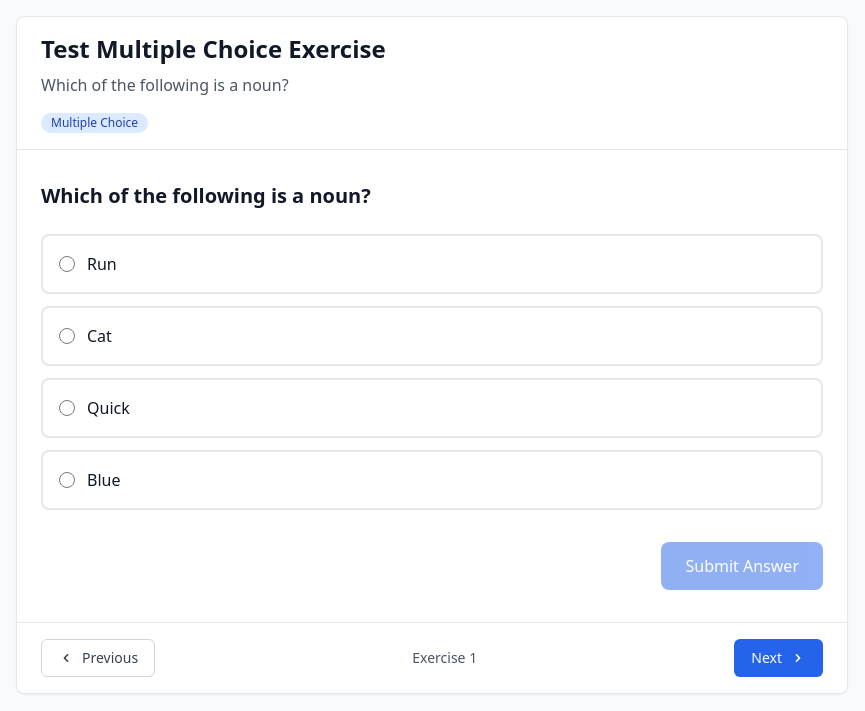
Test: ExercisePage › handles submission errors gracefully
Expected: the heading "Test Multiple Choice Exercise" is shown, [41, 33, 386, 65]
// Select an option
Click the radio button labelled "Cat".
click(67, 336)  # box [59, 328, 75, 344]
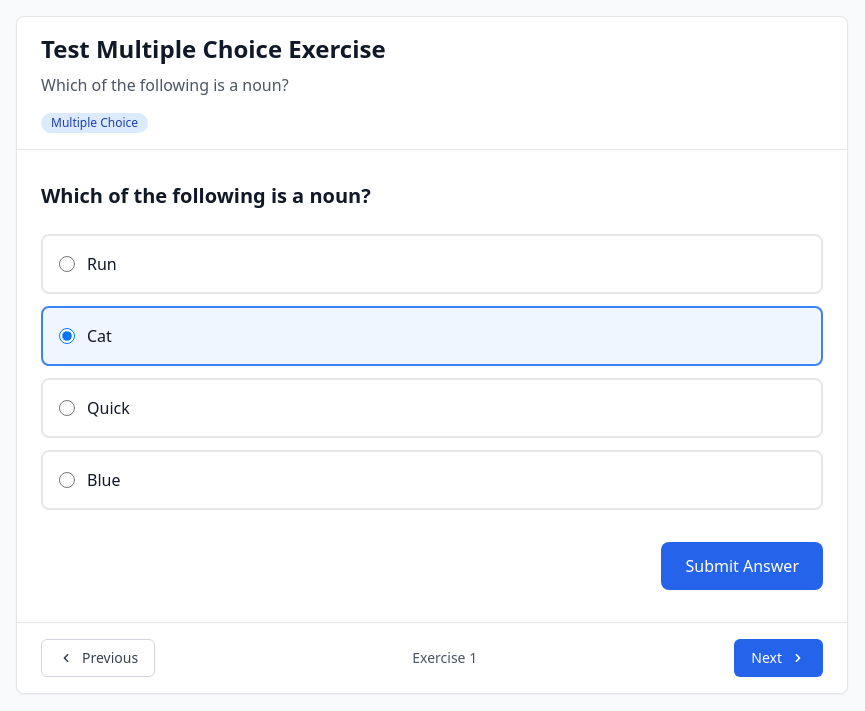
// Submit the answer
Click the button "Submit Answer".
click(742, 566)  # box [662, 542, 823, 590]
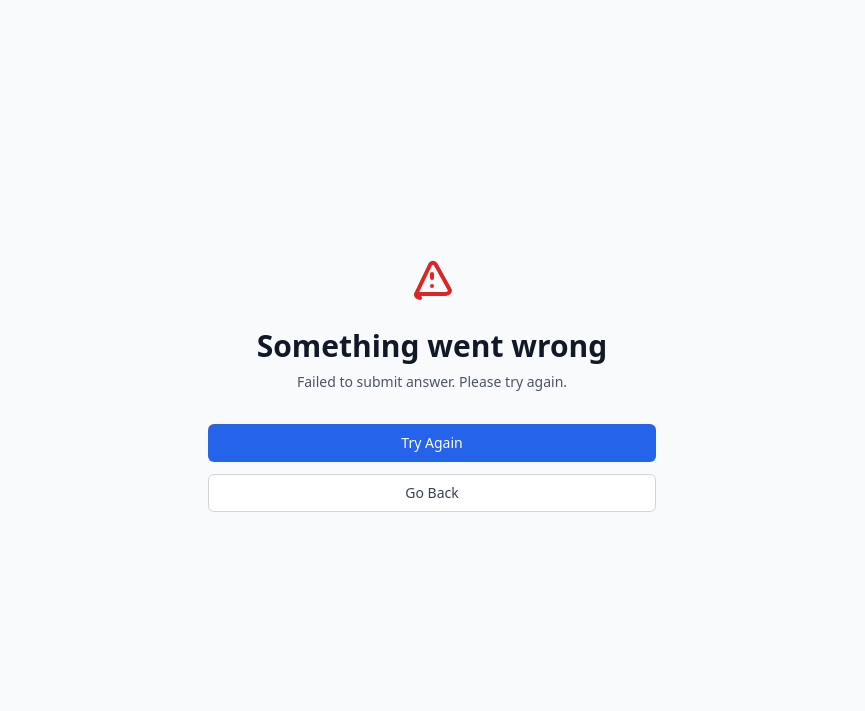
Now the text "Failed to submit answer. Please try again." is shown, box [297, 372, 567, 391]
